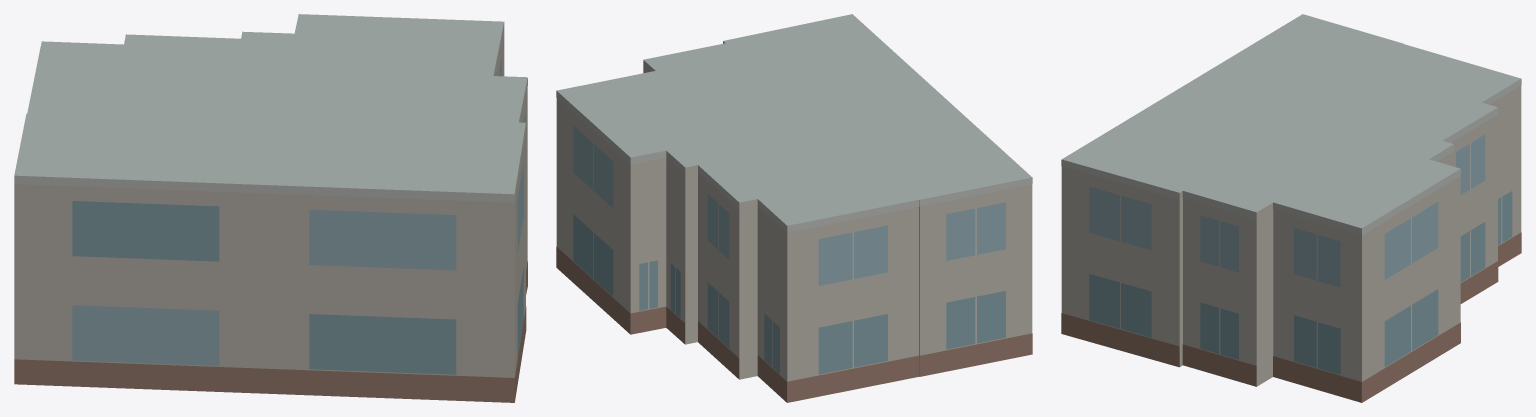
Rendered from survey-upis-33042579.glb.
3 renders of one model, left to right at view 1: azimuth 30°, elevation 25°; view 2: azimuth 150°, elevation 25°; view 3: azimuth 270°, elevation 25°, orthographic. The views are drawn at different scales.
Parts seen in each view (by area): view 1: survey-upis-33042579.tmp; view 2: survey-upis-33042579.tmp; view 3: survey-upis-33042579.tmp.
Part boxes in pixels (x1,y1,x2,y2): survey-upis-33042579.tmp: [14, 14, 527, 402]; survey-upis-33042579.tmp: [556, 14, 1032, 402]; survey-upis-33042579.tmp: [1061, 14, 1521, 402].
Size of the model in its own units: 16.09 by 6.1 by 14.58.
